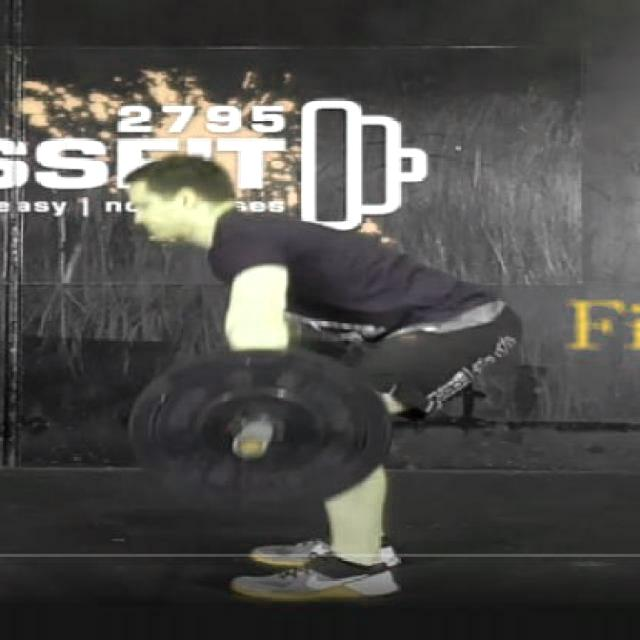barbell: (101, 340, 415, 524)
